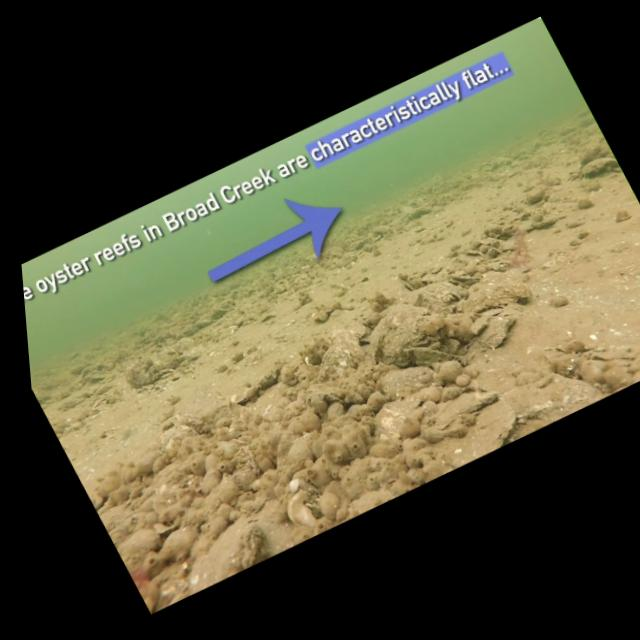Oyster-Closed: (477, 149, 519, 182)
Oyster-Indeterminate: (429, 398, 536, 473), (359, 382, 454, 461), (200, 519, 278, 582), (402, 325, 480, 386), (372, 352, 448, 413), (451, 269, 534, 324), (169, 384, 237, 440), (302, 337, 367, 388), (407, 273, 469, 325), (145, 516, 210, 564), (244, 384, 303, 434), (277, 482, 332, 533), (467, 309, 525, 355), (322, 320, 372, 371), (148, 416, 202, 460), (115, 521, 165, 563), (119, 353, 168, 395), (573, 150, 624, 190), (242, 360, 292, 396), (134, 571, 173, 614), (545, 348, 584, 388), (572, 350, 612, 389), (516, 178, 559, 212), (596, 359, 635, 396), (220, 380, 261, 415), (571, 135, 610, 169), (103, 511, 143, 544), (396, 197, 438, 227), (482, 251, 521, 282), (544, 285, 579, 319), (149, 509, 188, 538), (507, 215, 543, 245), (82, 362, 120, 389), (603, 346, 638, 375), (63, 355, 98, 382), (149, 339, 181, 366), (304, 243, 336, 269), (330, 248, 363, 272), (492, 233, 522, 258), (368, 216, 397, 241), (519, 203, 548, 228), (461, 241, 490, 265), (206, 302, 234, 326), (481, 219, 510, 242), (573, 192, 600, 216), (477, 229, 505, 252), (216, 323, 245, 345), (619, 358, 640, 388), (567, 334, 591, 359), (87, 488, 110, 512), (239, 307, 267, 326), (223, 310, 248, 331), (347, 234, 374, 253), (613, 206, 637, 227), (476, 240, 500, 259), (622, 350, 640, 374), (157, 355, 180, 372), (178, 321, 201, 338), (194, 315, 214, 333), (66, 348, 87, 364), (152, 309, 171, 325), (225, 321, 241, 336)
Oyster-Open: (354, 298, 444, 371), (170, 346, 203, 370), (159, 365, 176, 379)
